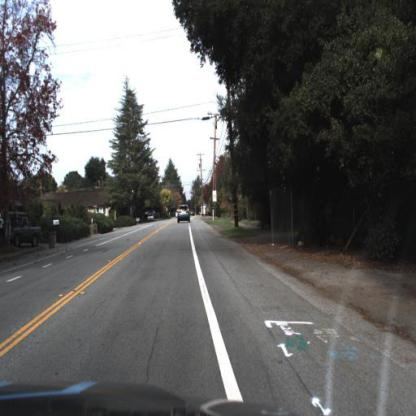car: (7, 217, 43, 251), (177, 204, 193, 229), (147, 211, 157, 227), (202, 202, 210, 218)
